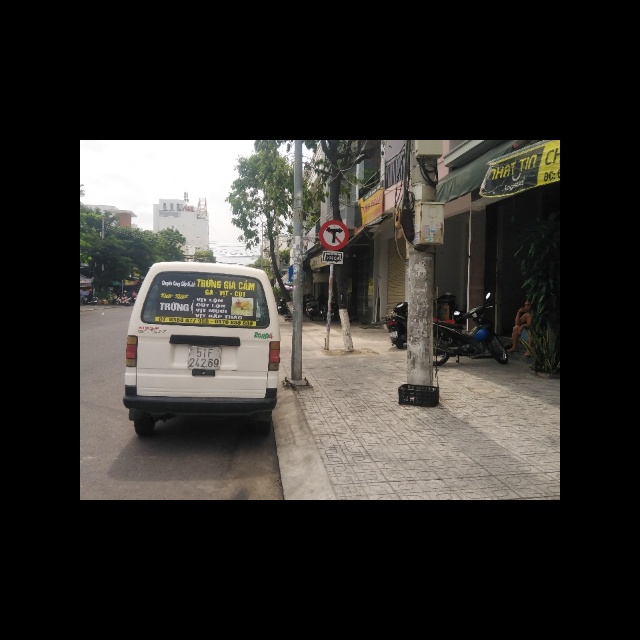Cấm rẽ trái và rẽ phải: (318, 219, 348, 250)
